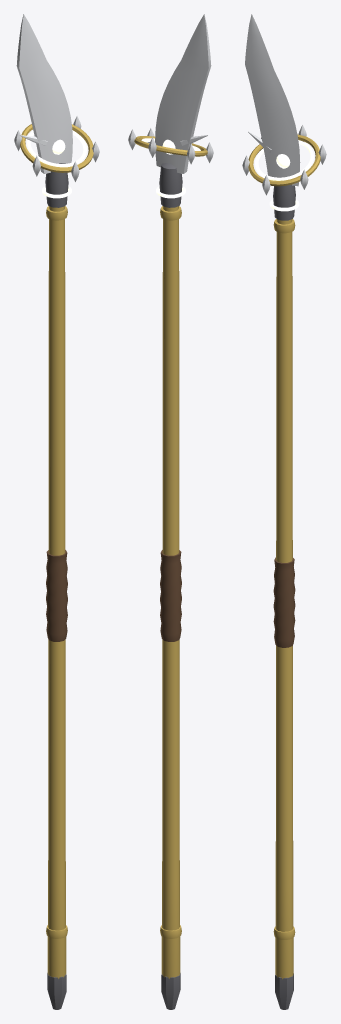
The model's file is esc_w_knight_spear_6.glb.
3 views of the same model, side by side, from view 1: azimuth 30°, elevation 25°; view 2: azimuth 150°, elevation 25°; view 3: azimuth 330°, elevation 25° (orthographic).
Parts seen in each view (by area): view 1: esc_w_knight_spear_6; view 2: esc_w_knight_spear_6; view 3: esc_w_knight_spear_6.
Part boxes in pixels (x1,y1,x2,y2): esc_w_knight_spear_6: (14, 14, 99, 1009); esc_w_knight_spear_6: (128, 14, 213, 1009); esc_w_knight_spear_6: (242, 14, 326, 1009).
Size of the model in its own units: 0.1742 by 2.33 by 0.1729.
